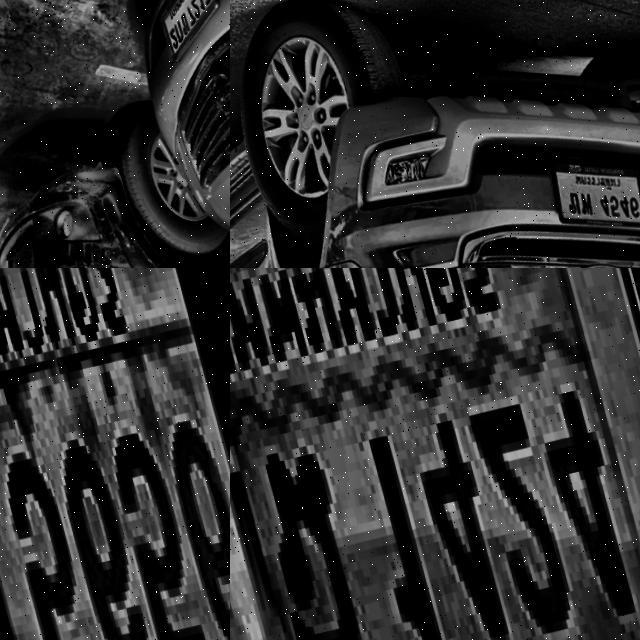license-plate: (230, 268, 640, 640), (0, 268, 230, 640), (539, 136, 640, 249), (142, 0, 230, 63)
